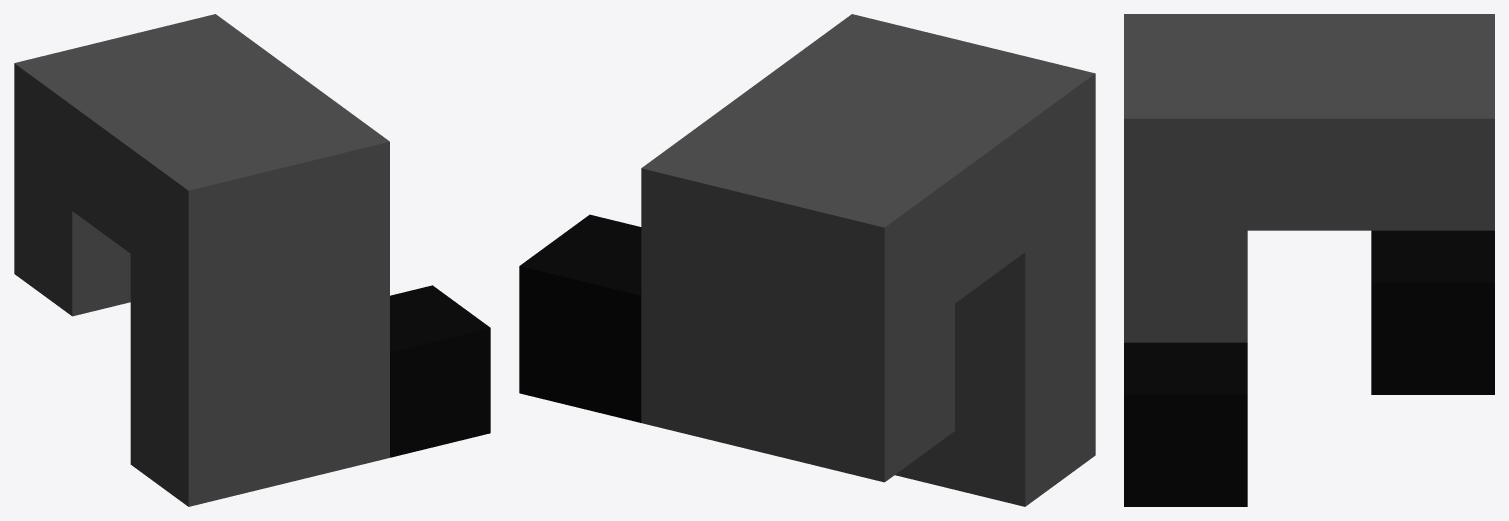
The model's file is player_feet_s-07.obj.
3 views of the same model, side by side, from view 1: azimuth 30°, elevation 25°; view 2: azimuth 150°, elevation 25°; view 3: azimuth 270°, elevation 25° (orthographic). The views are drawn at different scales.
Bounding box in the file's own units: 3 × 3 × 3.
